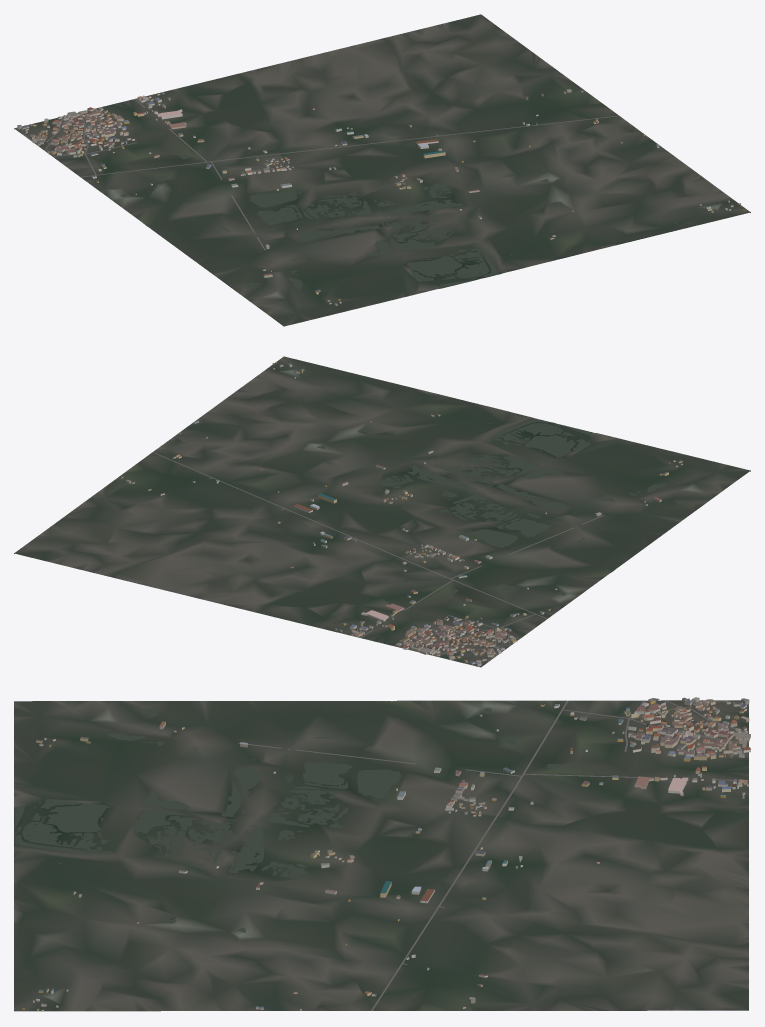
3 views of the same model, one above another, from view 1: azimuth 30°, elevation 25°; view 2: azimuth 150°, elevation 25°; view 3: azimuth 270°, elevation 25° (orthographic). The views are drawn at different scales.
Visible parts, largest first — view 1: ground, water, buildings, roads; view 2: ground, water, buildings, roads; view 3: ground, water, buildings, roads.
Boxes of the visible parts, x1,y1,x2,y2 form: ground: (14,14,750,326); water: (120,154,694,289); buildings: (17,89,745,305); roads: (22,99,619,250); ground: (14,356,750,667); water: (317,372,689,595); buildings: (121,358,682,666); roads: (152,452,604,661); ground: (14,700,748,1011); water: (14,701,562,977); buildings: (22,697,750,1011); roads: (238,700,748,1010).
Bounding box in the file's own units: 1403 × 15.53 × 1406.
